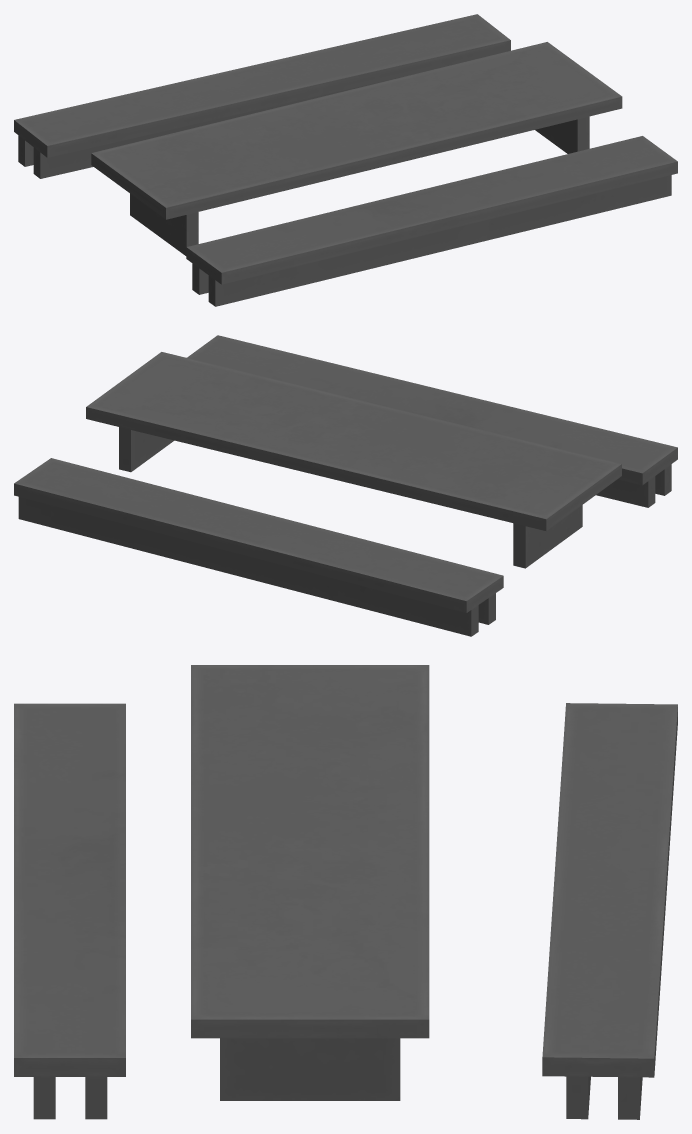
Rendered from Pfb_Canteen__3.fbx.
The picture shows the model from 3 angles, top to bottom: view 1: azimuth 30°, elevation 25°; view 2: azimuth 150°, elevation 25°; view 3: azimuth 270°, elevation 25°; orthographic projection. The views are drawn at different scales.
Parts seen in each view (by area): view 1: Mat_Canteen_02; view 2: Mat_Canteen_02; view 3: Mat_Canteen_02.
Part boxes in pixels (bbox=[...]): Mat_Canteen_02: bbox=[14, 14, 677, 306]; Mat_Canteen_02: bbox=[14, 335, 677, 636]; Mat_Canteen_02: bbox=[14, 665, 677, 1119].
Size of the model in its own units: 3.5 by 0.4592 by 2.77.
Materials: 1 (1 with a texture image).
